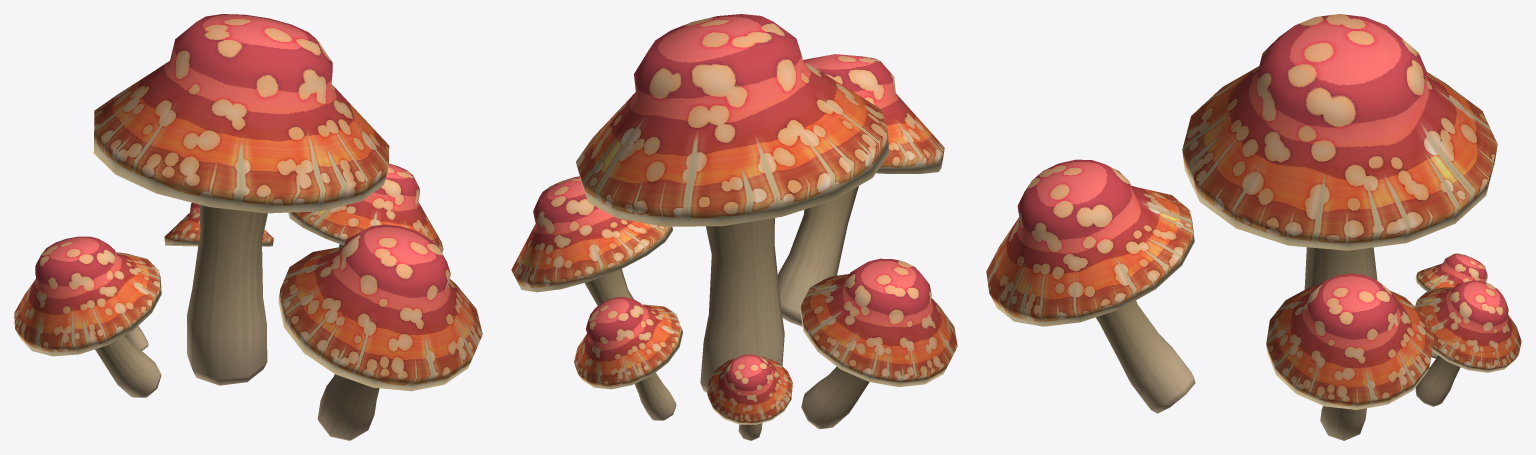
File: VEG0110010.fbx
3 views of the same model, side by side, from view 1: azimuth 30°, elevation 25°; view 2: azimuth 150°, elevation 25°; view 3: azimuth 270°, elevation 25° (orthographic). The views are drawn at different scales.
Parts seen in each view (by area): view 1: smVEG0110010; view 2: smVEG0110010; view 3: smVEG0110010.
Part boxes in pixels (box(x1,y1,x2,y2)): smVEG0110010: box(14, 14, 482, 440); smVEG0110010: box(511, 14, 957, 440); smVEG0110010: box(986, 14, 1521, 440).
Bounding box in the file's own units: 43.47 × 36.06 × 47.54.
1 material, 1 textured.
